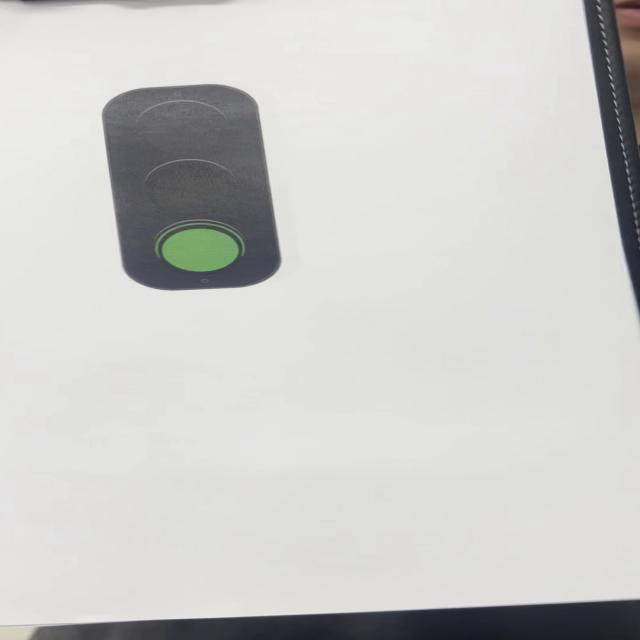green: (105, 85, 283, 294)
